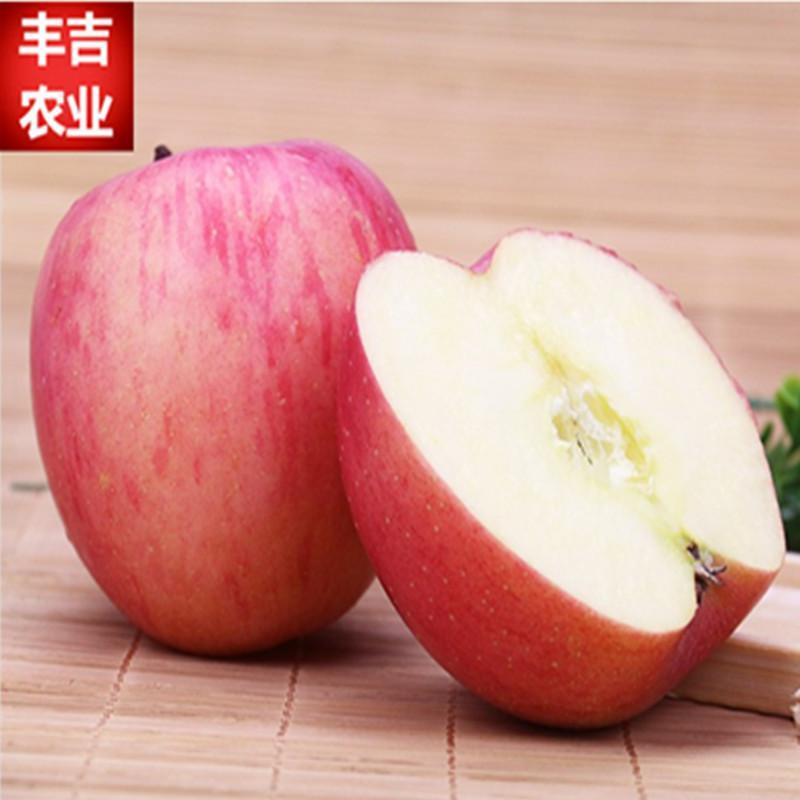apple: (22, 140, 415, 664)
